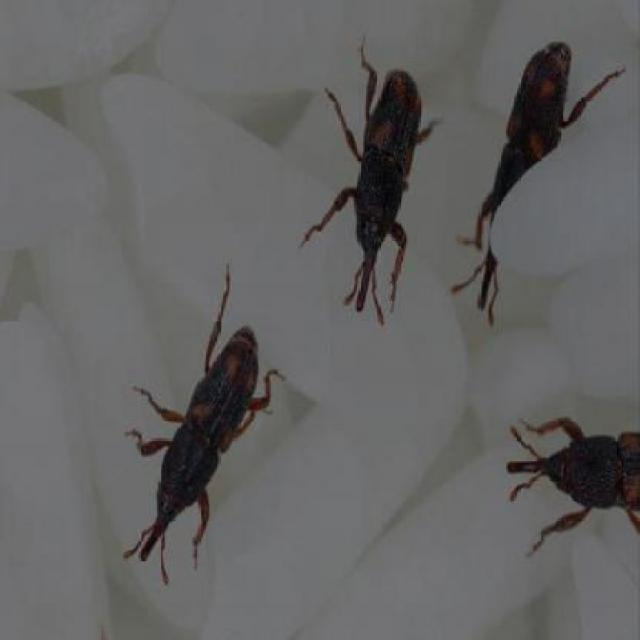rice-bug: (134, 288, 271, 575), (474, 42, 595, 316), (317, 50, 426, 308), (504, 402, 640, 555)
